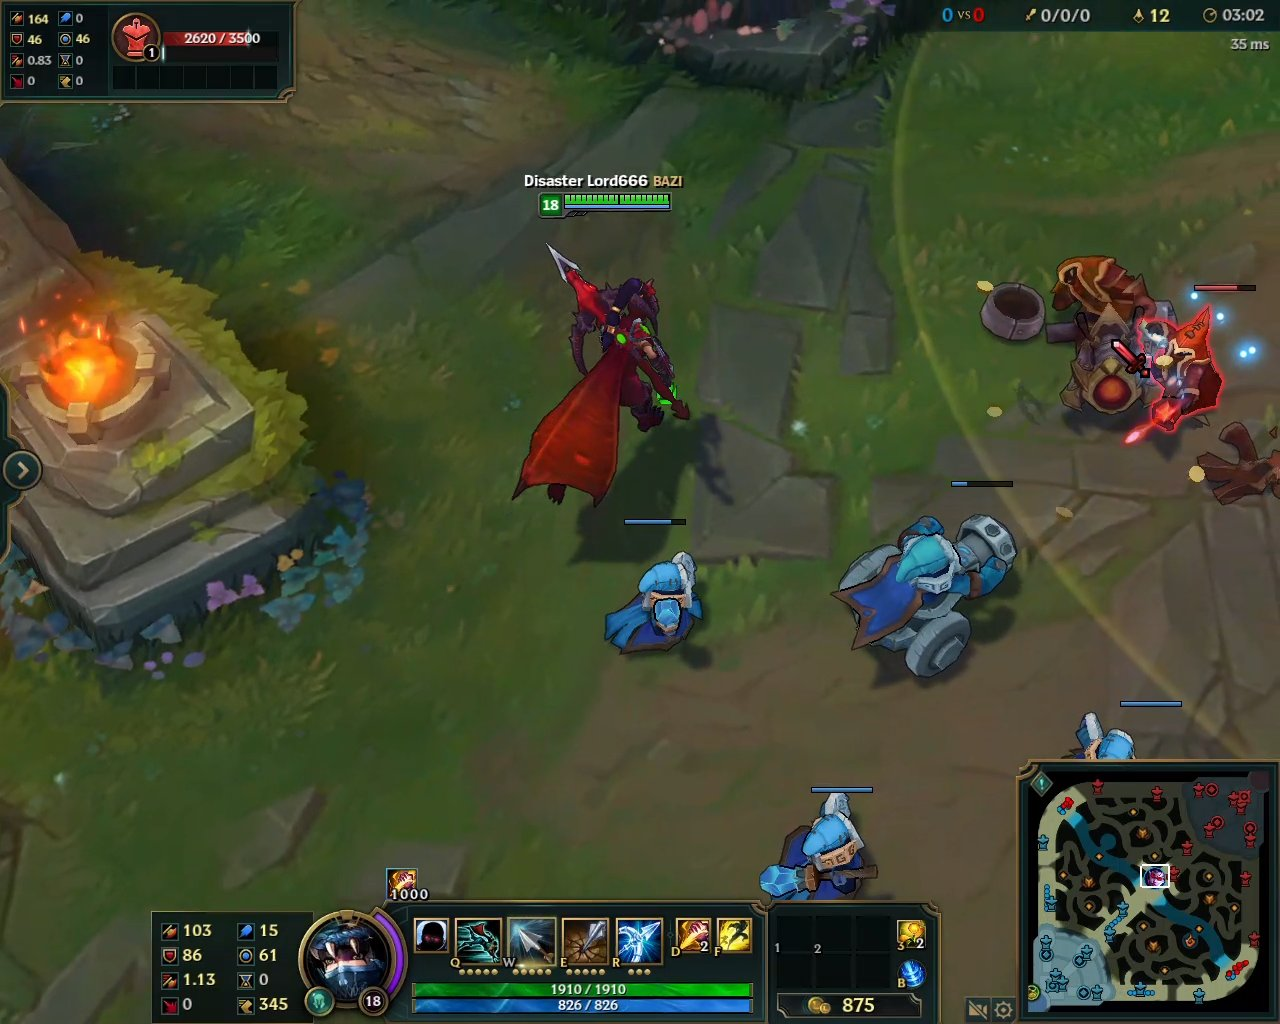Vayne: (505, 238, 695, 512)
